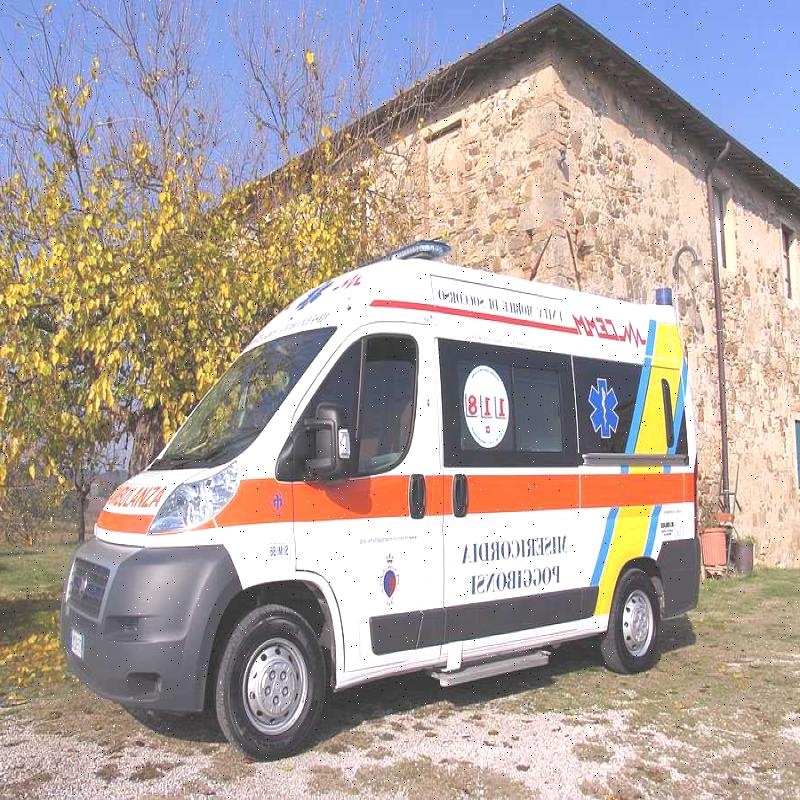AmbulanceSiren: (391, 231, 458, 266)
